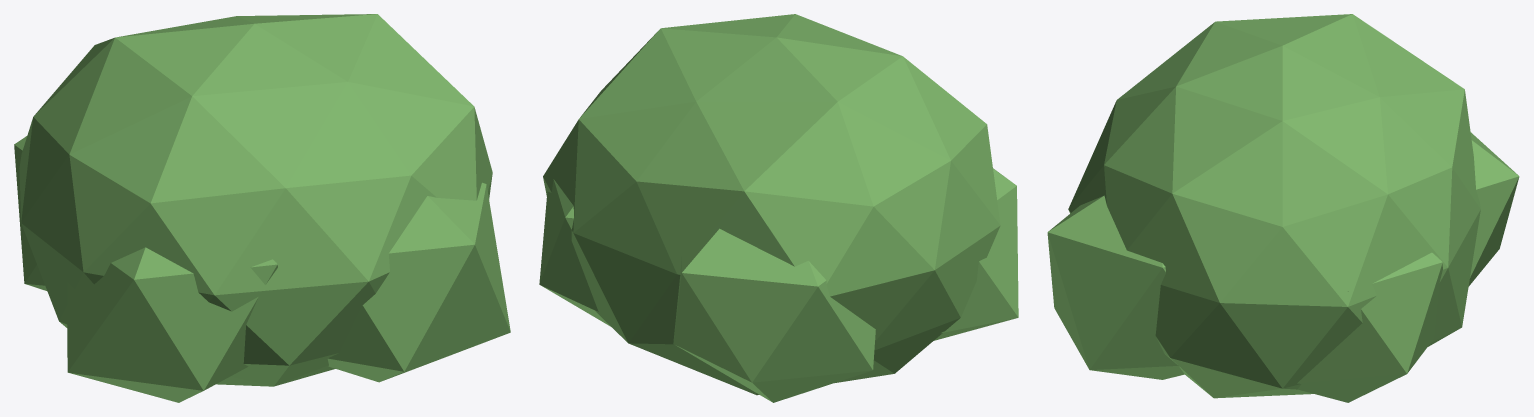
Rendered from bush.glb.
3 renders of one model, left to right at view 1: azimuth 30°, elevation 25°; view 2: azimuth 150°, elevation 25°; view 3: azimuth 270°, elevation 25°, orthographic. The views are drawn at different scales.
Parts seen in each view (by area): view 1: bush; view 2: bush; view 3: bush.
Boxes of the visible parts, x1,y1,x2,y2 form: bush: (14,14,510,402); bush: (539,14,1018,402); bush: (1047,14,1519,402).
Size of the model in its own units: 1.12 by 0.804 by 1.12.
